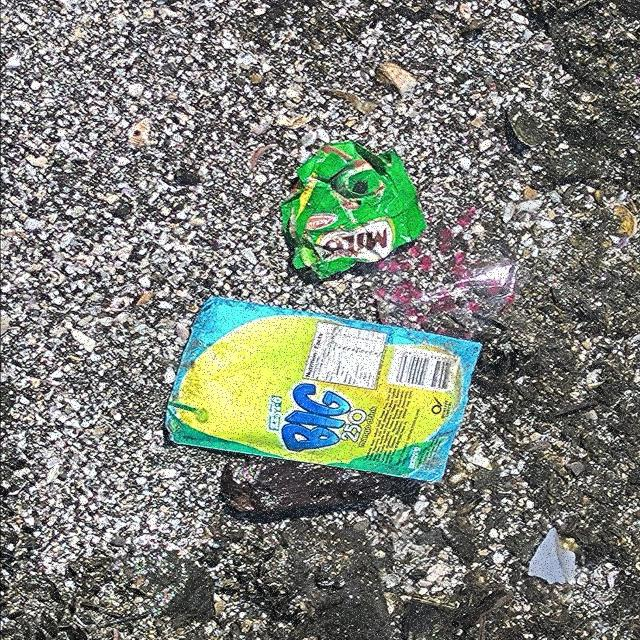plastic_waste: (165, 298, 482, 486), (282, 141, 427, 283)
